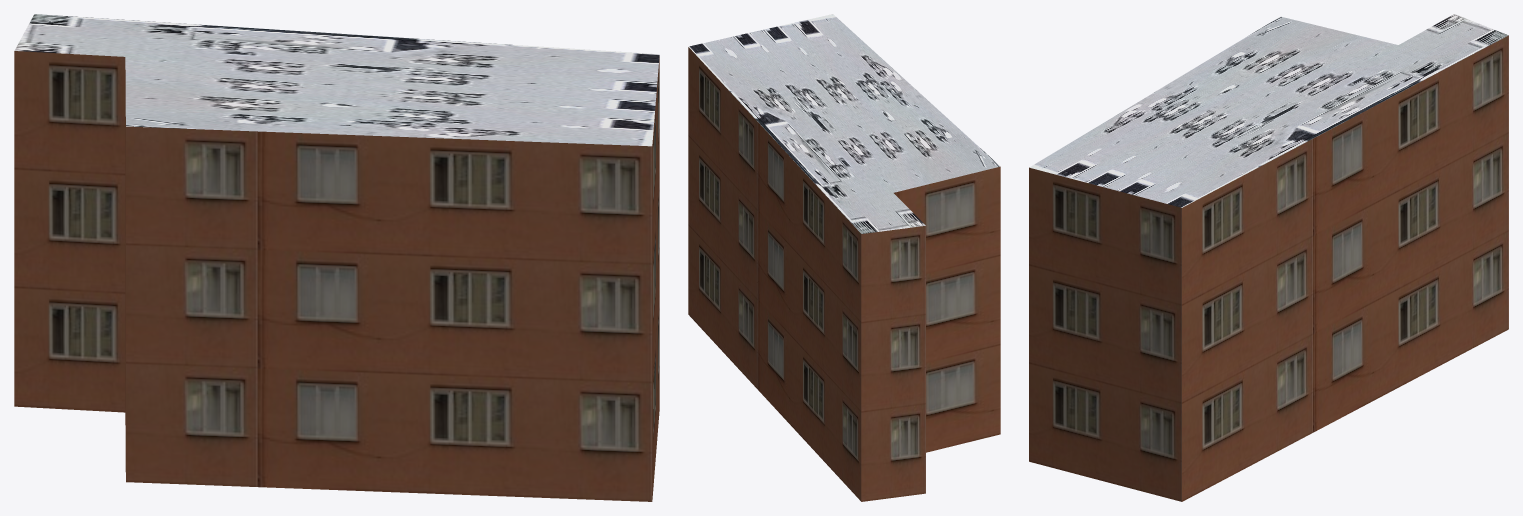
The model's file is ResTex__4631.fbx.
The picture shows the model from 3 angles, left to right: view 1: azimuth 30°, elevation 25°; view 2: azimuth 150°, elevation 25°; view 3: azimuth 270°, elevation 25°; orthographic projection. The views are drawn at different scales.
Parts seen in each view (by area): view 1: CityEngineMaterial_20_m, CityEngineMaterial_8_m; view 2: CityEngineMaterial_20_m, CityEngineMaterial_8_m; view 3: CityEngineMaterial_20_m, CityEngineMaterial_8_m.
Part boxes in pixels (x1,y1,x2,y2): CityEngineMaterial_20_m: (14, 51, 659, 501); CityEngineMaterial_8_m: (14, 14, 659, 146); CityEngineMaterial_20_m: (688, 47, 1000, 501); CityEngineMaterial_8_m: (688, 14, 1000, 233); CityEngineMaterial_20_m: (1029, 35, 1508, 501); CityEngineMaterial_8_m: (1029, 14, 1508, 207).
Bounding box in the file's own units: 12.73 × 9 × 13.3.
Materials: 2 (2 with a texture image).
